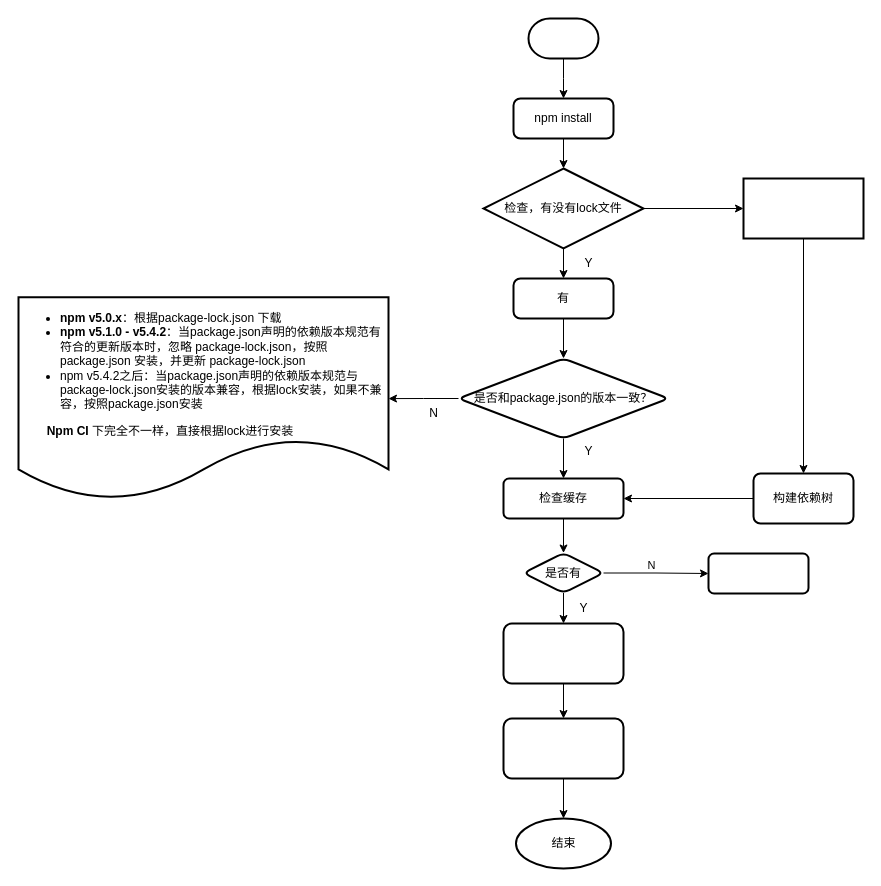
Some shapes in this 881 by 886 pixel diagram are drawn without their labels. Here are the shapes that lost their labels. From the top down, the centre of each, then its label:
At (x=563, y=38): "开始".
At (x=803, y=208): "获取".
At (x=758, y=573): "下载包".
At (x=563, y=653): "解压到 node_modules".
At (x=563, y=748): "生成lock文件".
